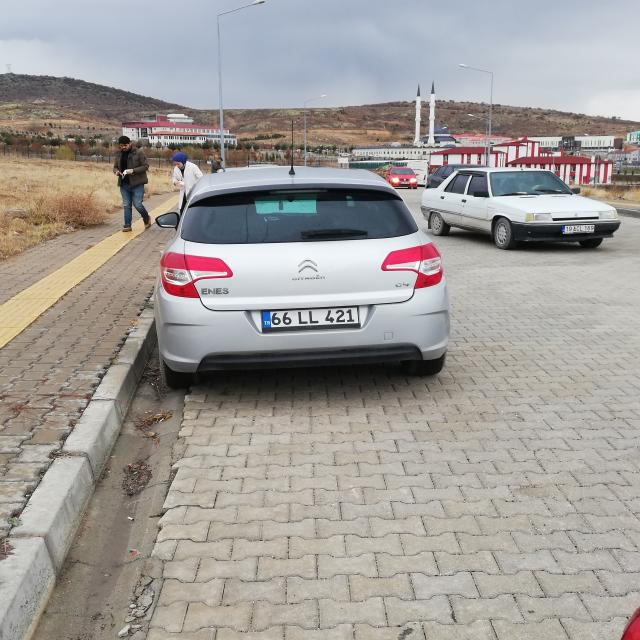license_plate: (262, 306, 360, 328)
